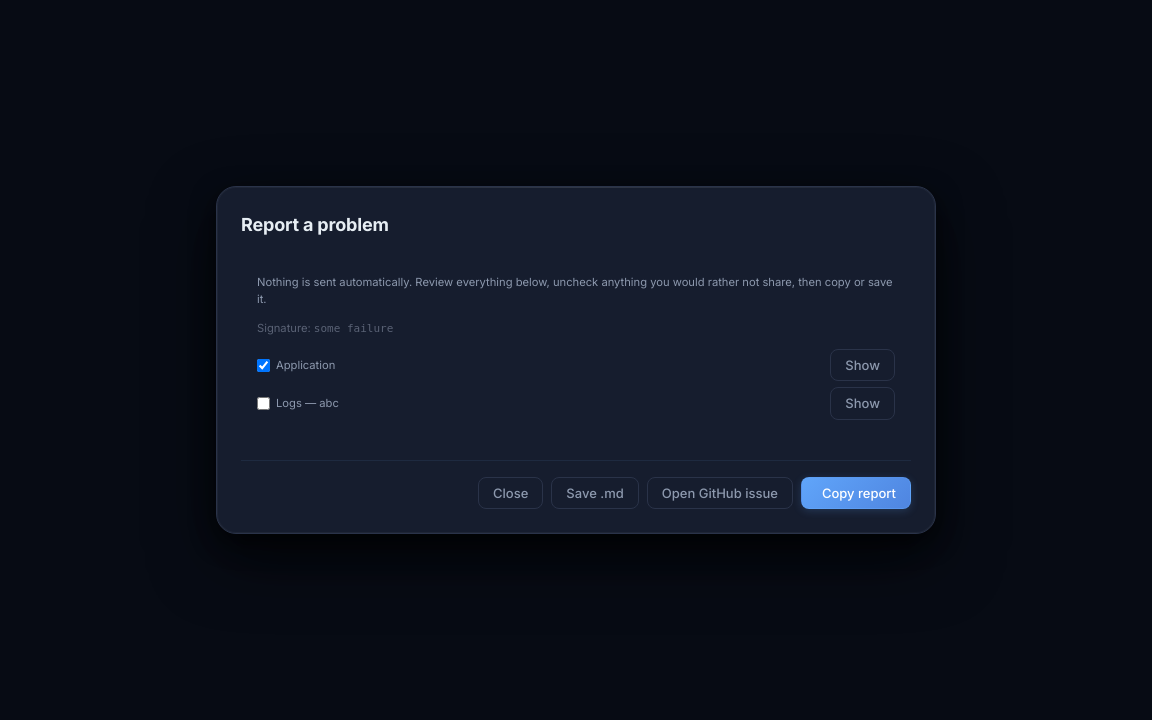
Test: BundlePreview › shows a section's full content when expanded, not a sample
Expected: the text "Application" is shown, [276, 357, 335, 374]
Expected: the text "SECRET-LOG-LINE" is not shown
Click the button "Show" in the row of "Logs — abc": point(863, 404) [830, 388, 895, 420]
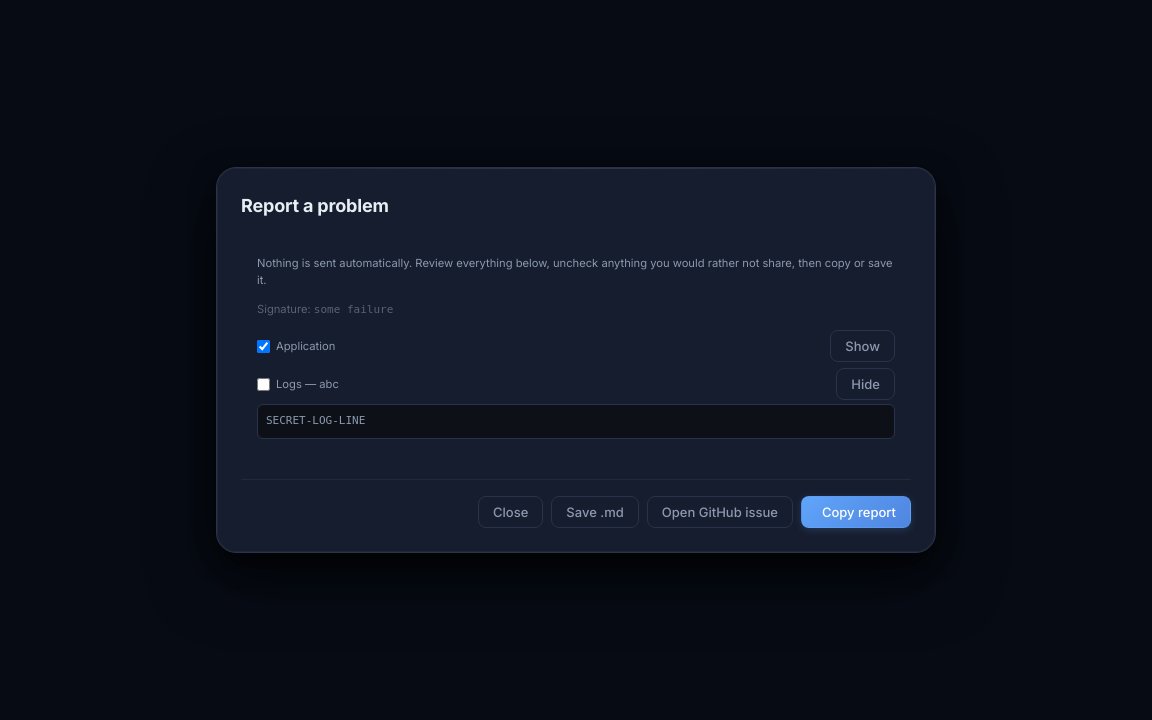
Now the text "SECRET-LOG-LINE" is shown, box [257, 404, 895, 439]
